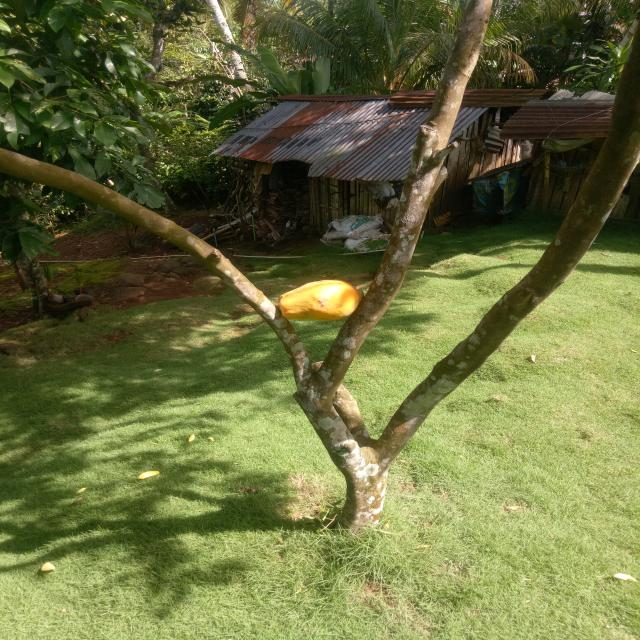Pepaya rippen: (277, 273, 360, 326)
